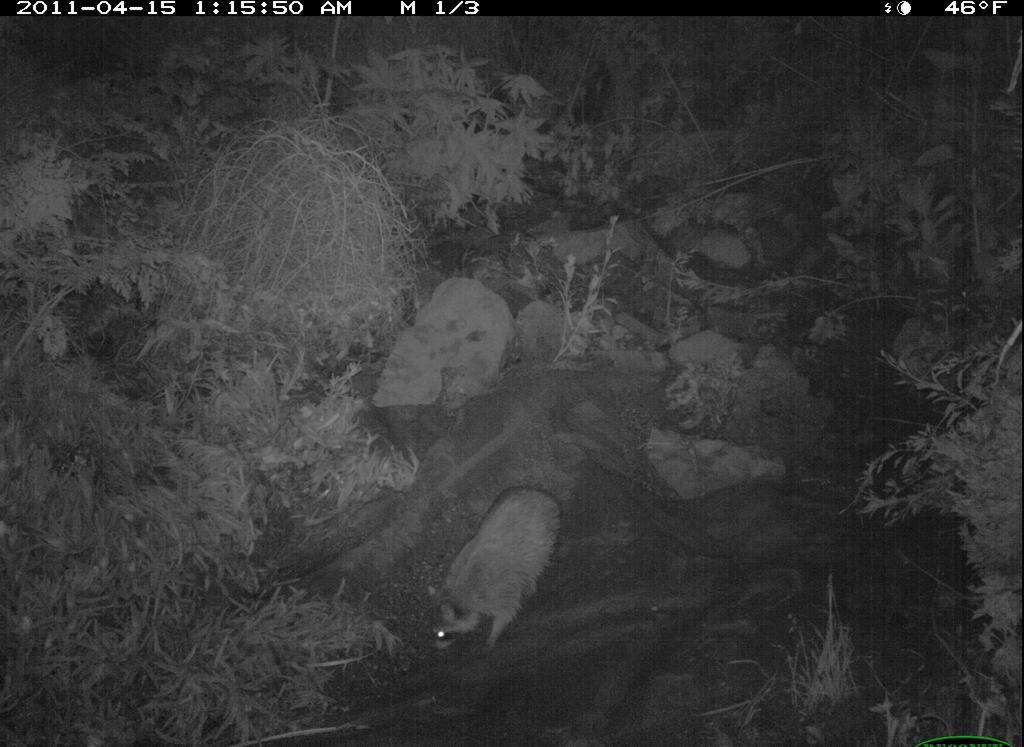raccoon: (424, 482, 568, 662)
